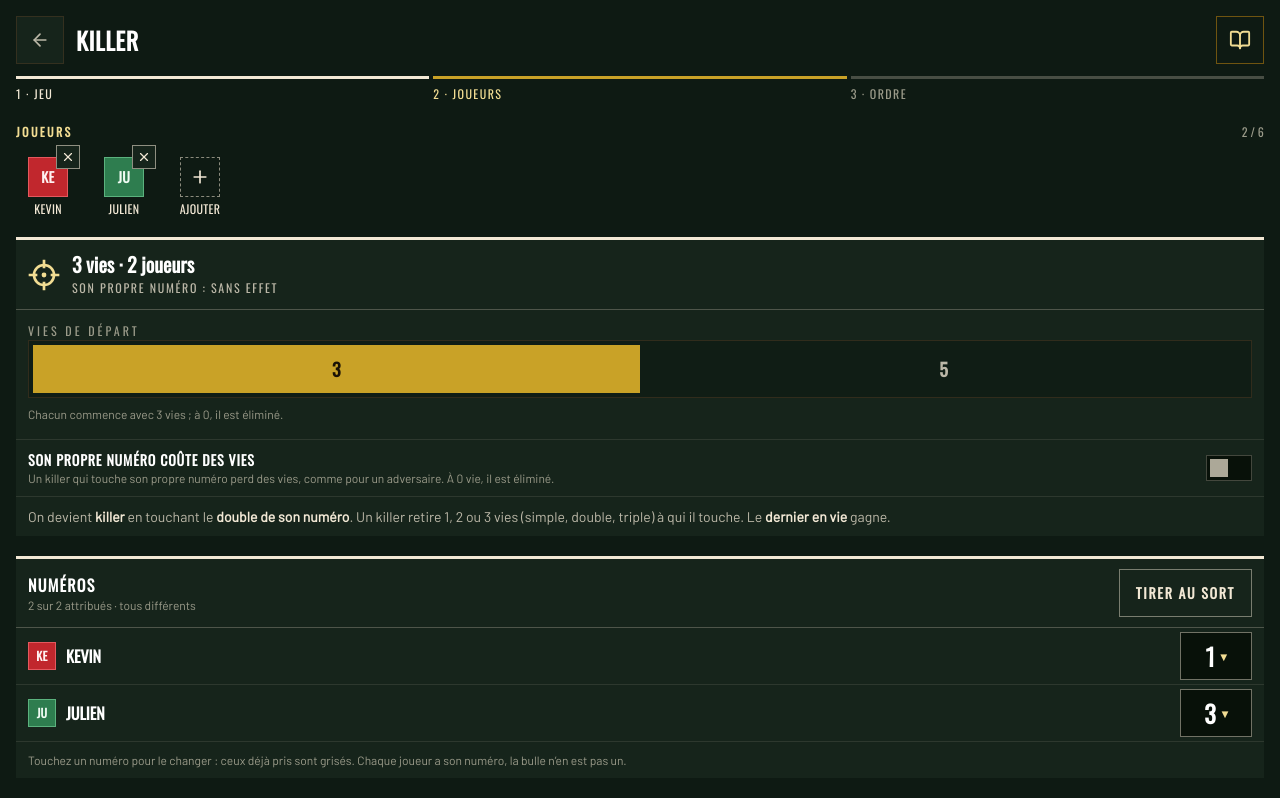
Test case: Killer — étape 2, les numéros › un joueur ajouté reçoit un numéro libre, un joueur retiré libère sa rangée
Check: the element "Numéros" is shown, box top-left (16, 556), bottom-right (1264, 778)
Click the button with aria-label "Ajouter un joueur": (200, 187) top-left (168, 157), bottom-right (232, 217)
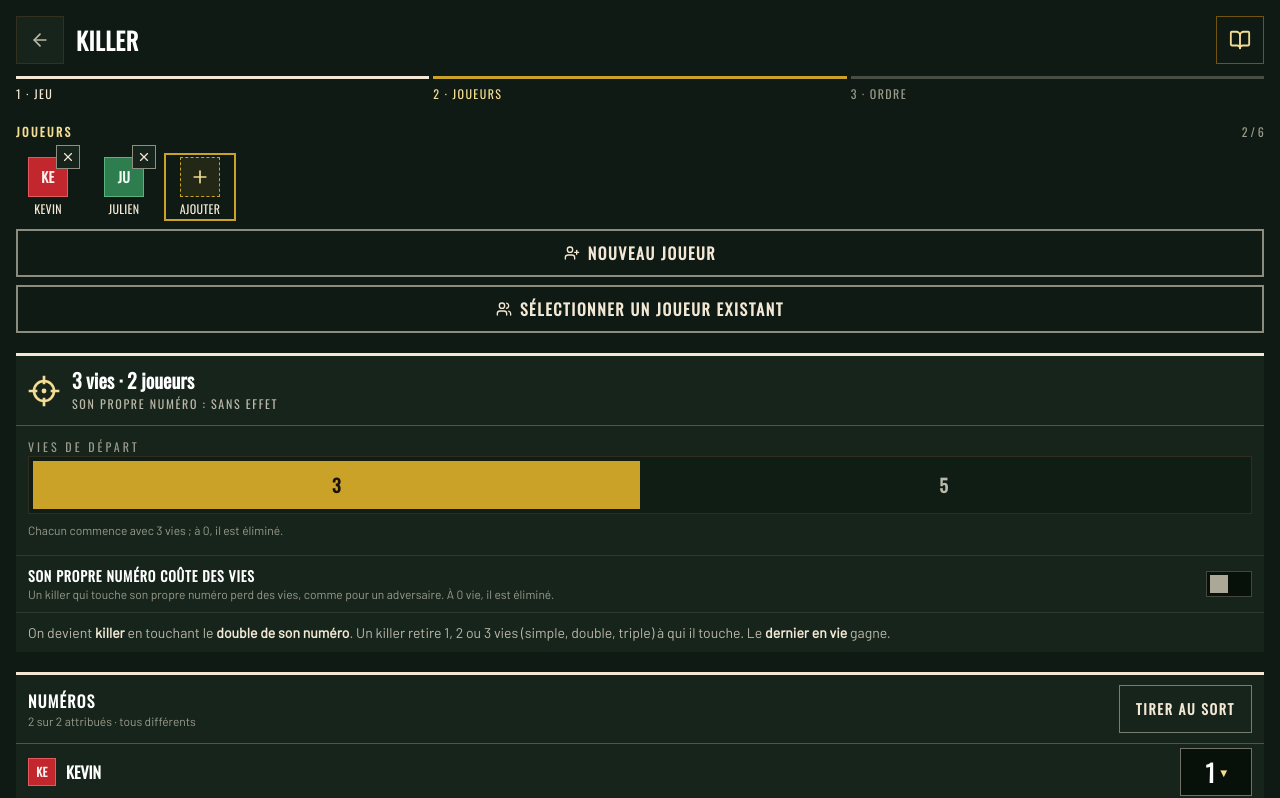
Click the link "Sélectionner un joueur existant": (640, 309) top-left (16, 285), bottom-right (1264, 333)
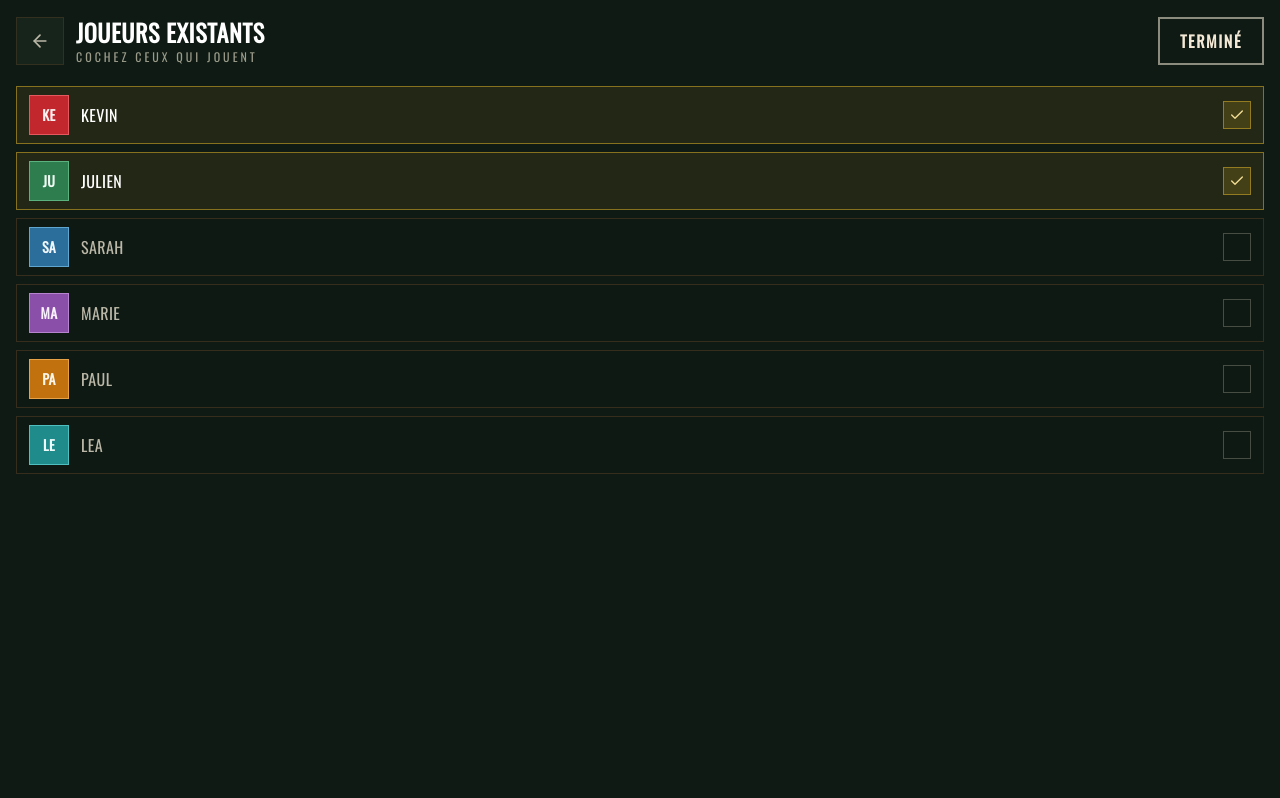
Click the button "SA Sarah": (49, 247) top-left (16, 218), bottom-right (1264, 276)
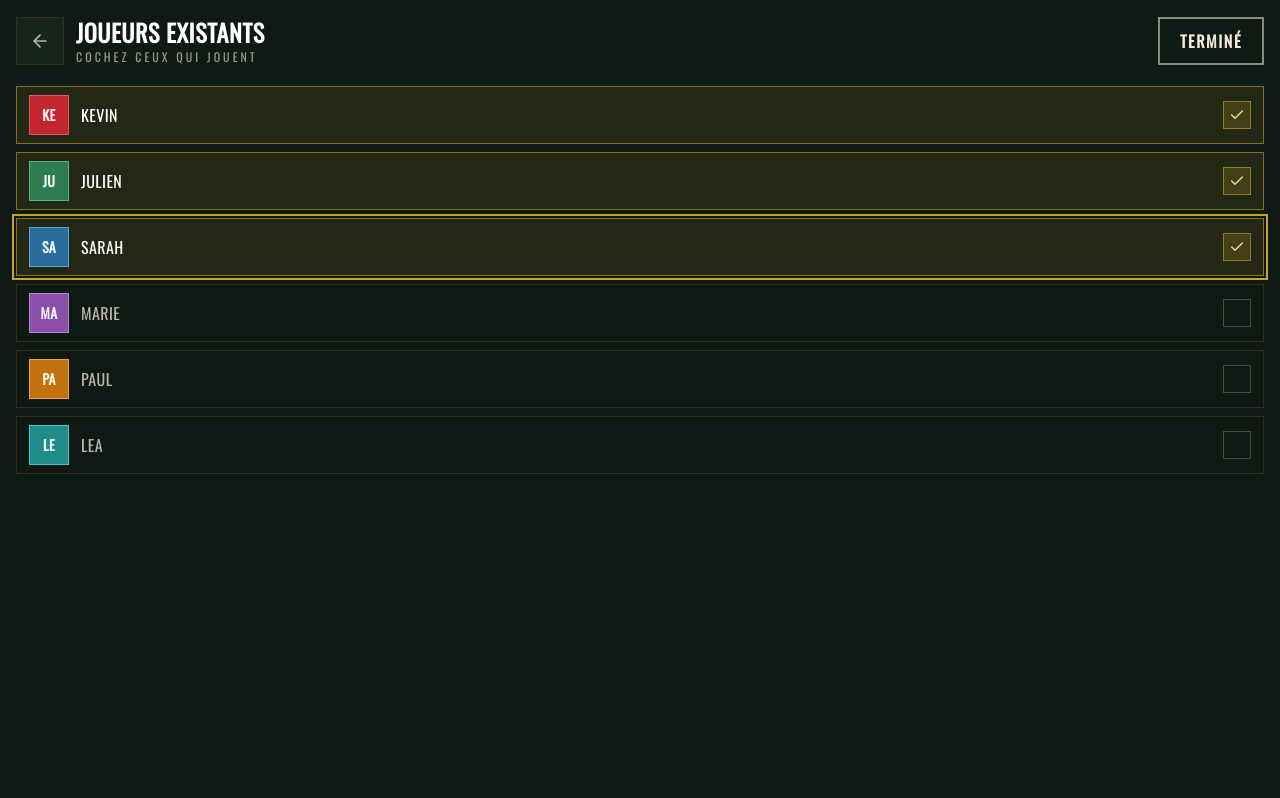
Click the button "Terminé": (1211, 41) top-left (1158, 17), bottom-right (1264, 65)
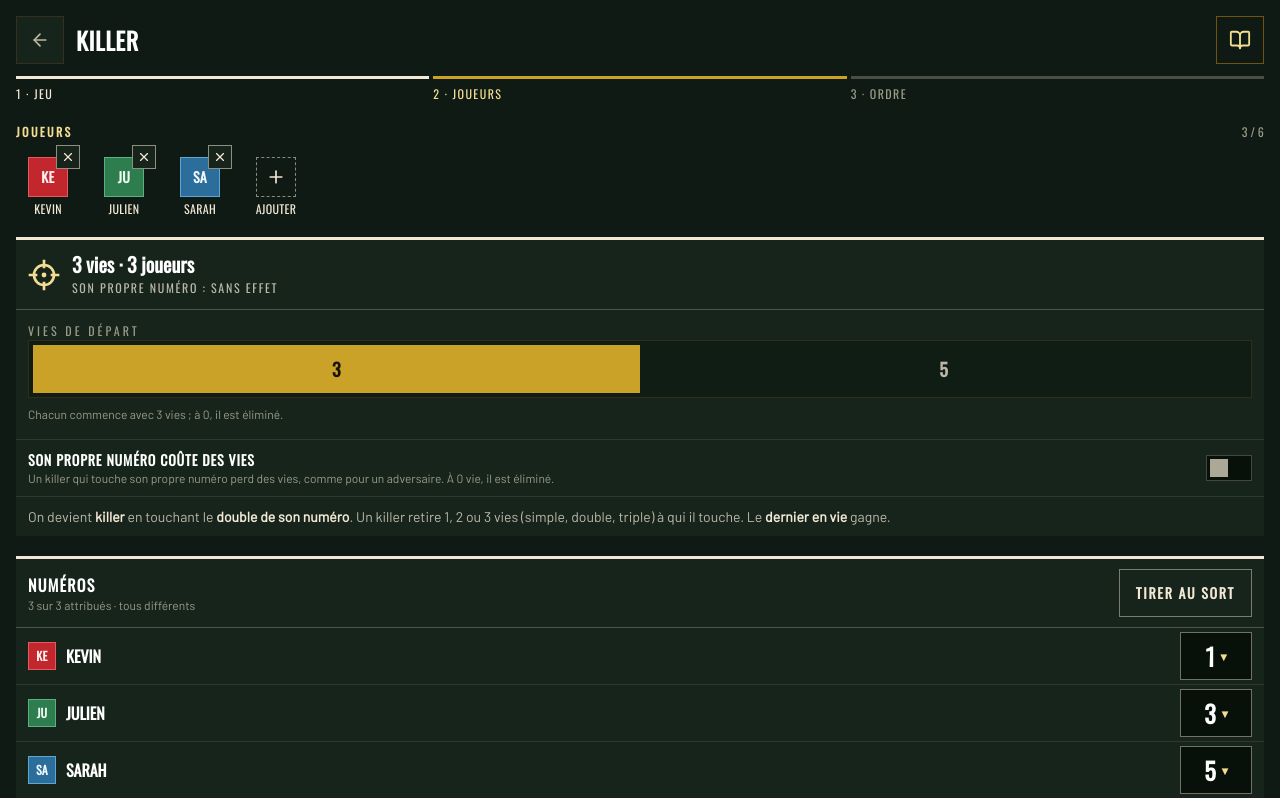
Click the button named "Retirer Julien de la partie": (144, 157) top-left (120, 133), bottom-right (168, 181)
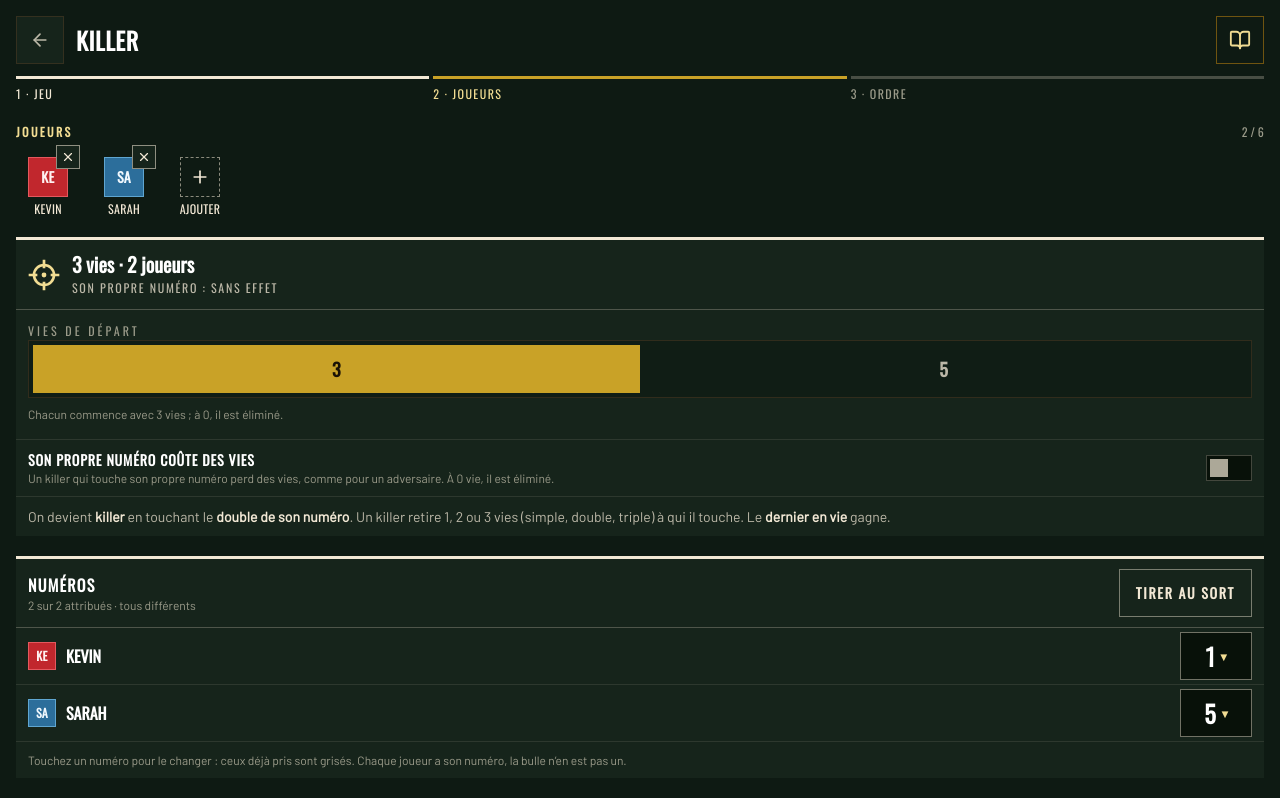
Check: the element "Numéros" shows "2 sur 2 attribués", box top-left (28, 598), bottom-right (196, 612)
